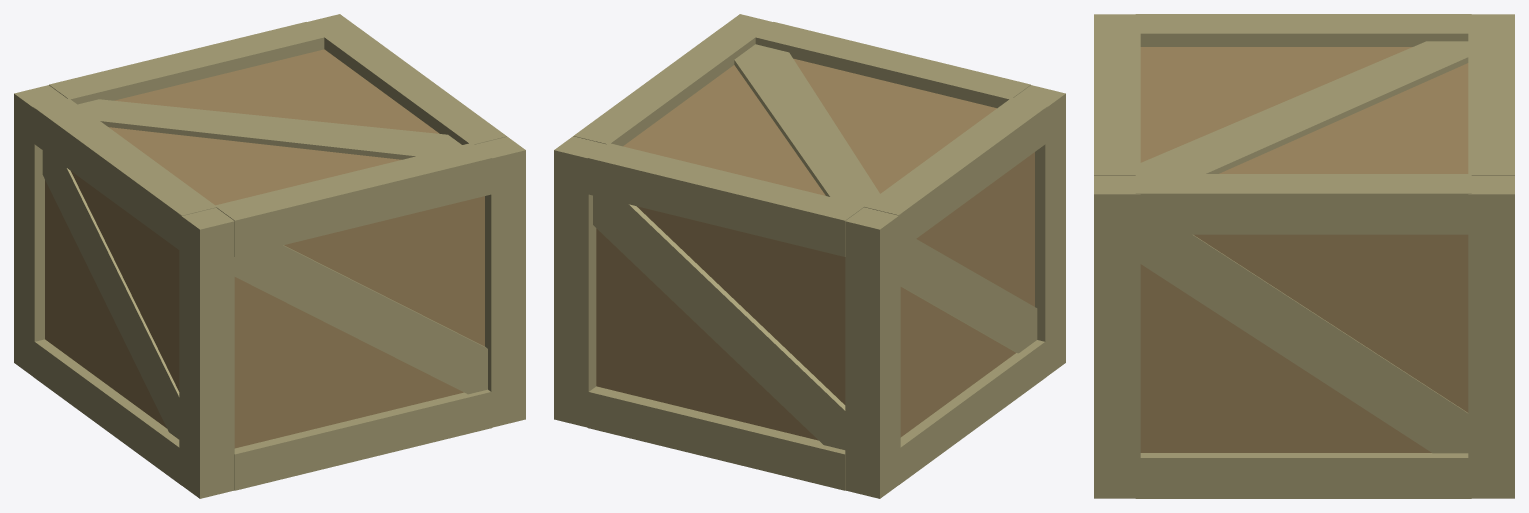
3 views of the same model, side by side, from view 1: azimuth 30°, elevation 25°; view 2: azimuth 150°, elevation 25°; view 3: azimuth 270°, elevation 25° (orthographic). The views are drawn at different scales.
Visible parts, largest first — view 1: Box; view 2: Box; view 3: Box.
Boxes of the visible parts, x1,y1,x2,y2 form: Box: (14, 14, 525, 498); Box: (554, 14, 1065, 498); Box: (1094, 14, 1514, 498).
Bounding box in the file's own units: 253 × 201 × 250.
